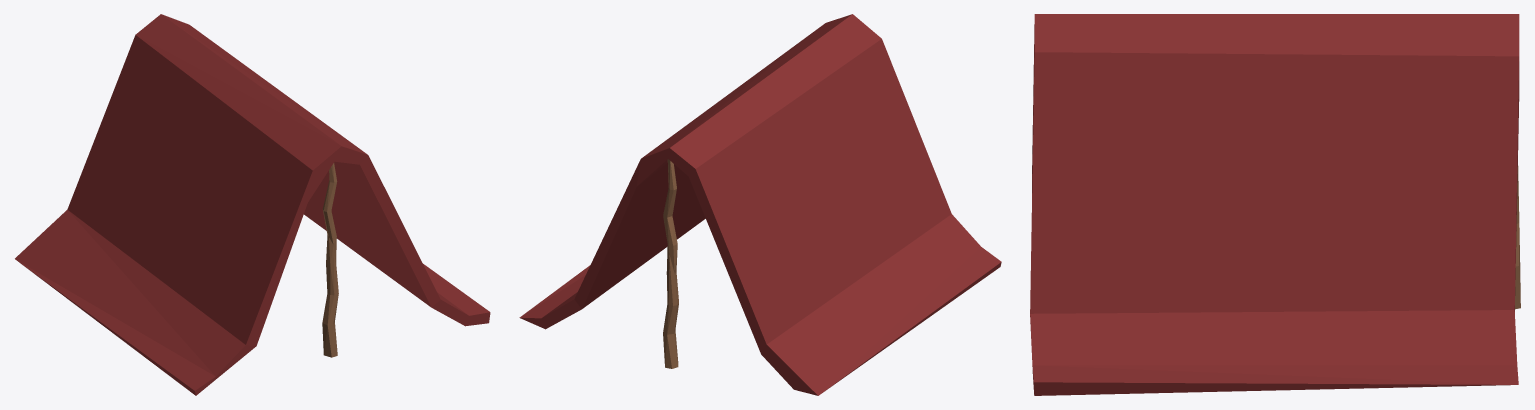
The model's file is tent_red.fbx.
The picture shows the model from 3 angles, left to right: view 1: azimuth 30°, elevation 25°; view 2: azimuth 150°, elevation 25°; view 3: azimuth 270°, elevation 25°; orthographic projection. The views are drawn at different scales.
Parts seen in each view (by area): view 1: tent_red; view 2: tent_red; view 3: tent_red.
Boxes of the visible parts, <box> form: tent_red: <box>15,14,490,395</box>; tent_red: <box>519,14,1001,395</box>; tent_red: <box>1030,14,1520,395</box>.
Bounding box in the file's own units: 278 × 196 × 299.
